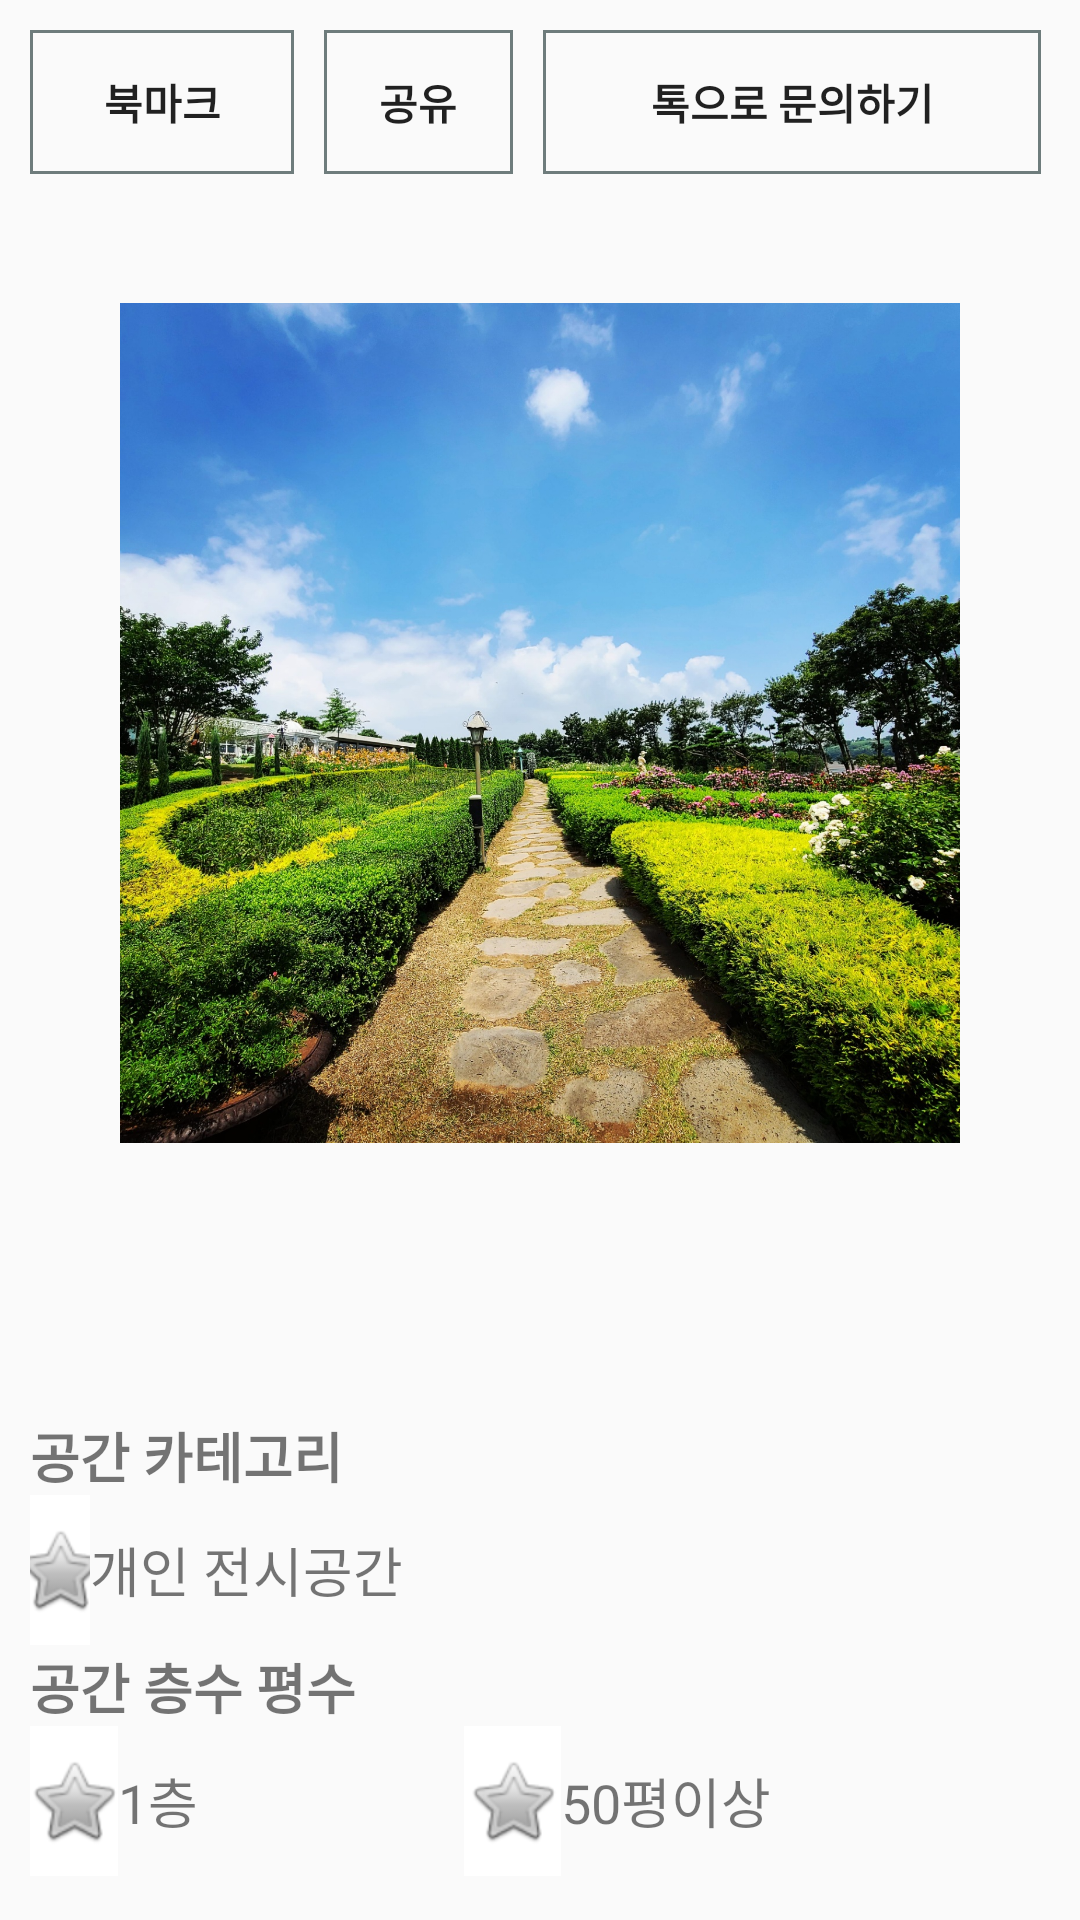

Locate icon controls on the screen. Image size 1080px×1920px, boxes as (x1, y1, x2, y2).
star: (30, 1532, 90, 1610), (35, 1763, 115, 1841), (474, 1763, 554, 1841)
